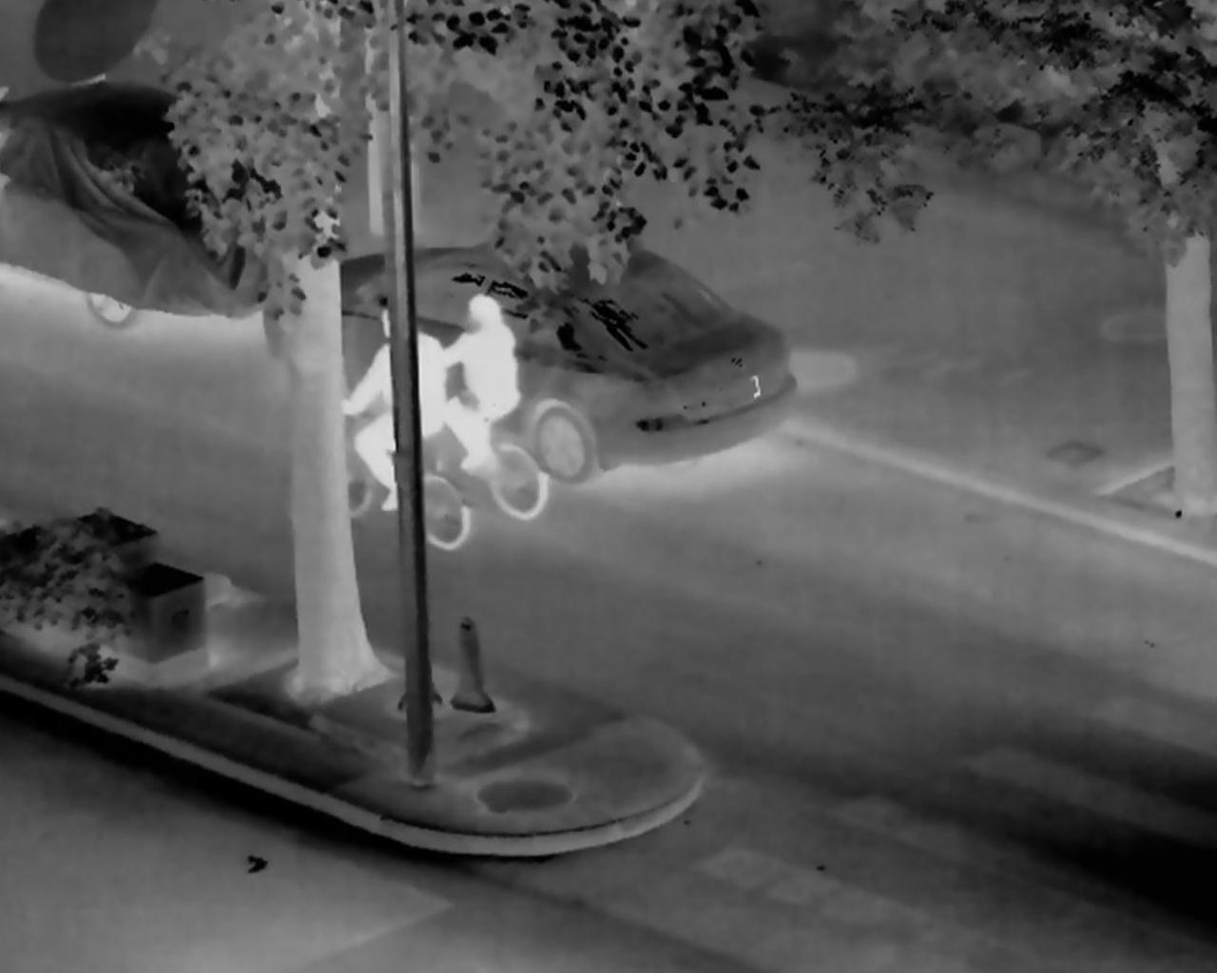person: (337, 309, 444, 511), (435, 295, 517, 473)
